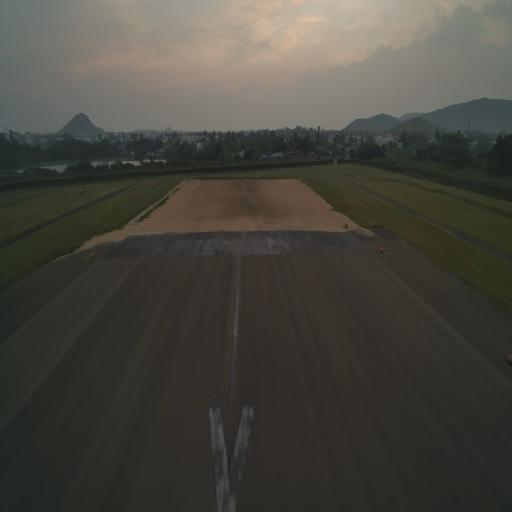on: (506, 347, 512, 364), (379, 245, 385, 256), (90, 250, 95, 260)
